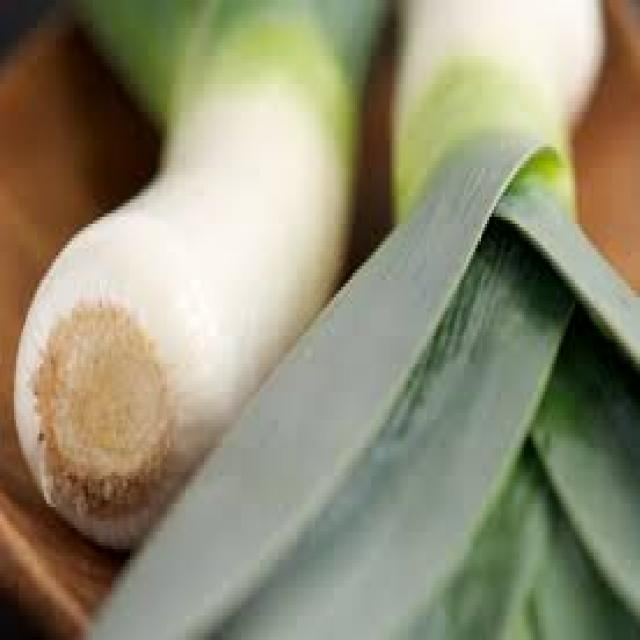organic waste: (77, 129, 638, 636), (9, 0, 390, 549), (387, 0, 605, 220)
